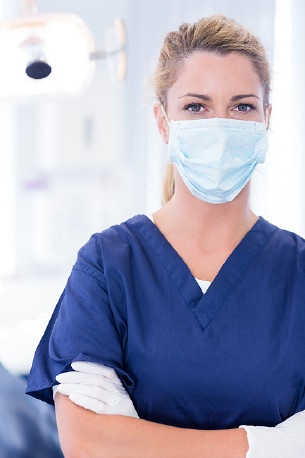Mask: (161, 89, 266, 193)
